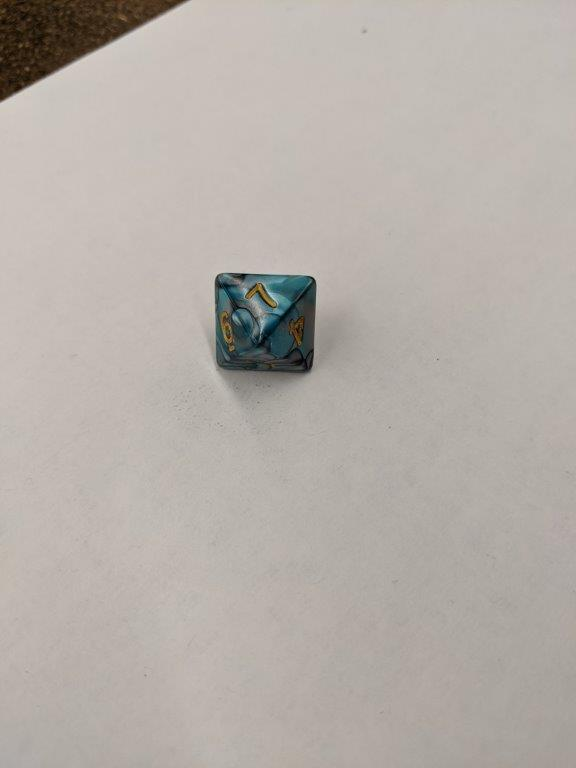d8-7: (214, 270, 314, 378)
